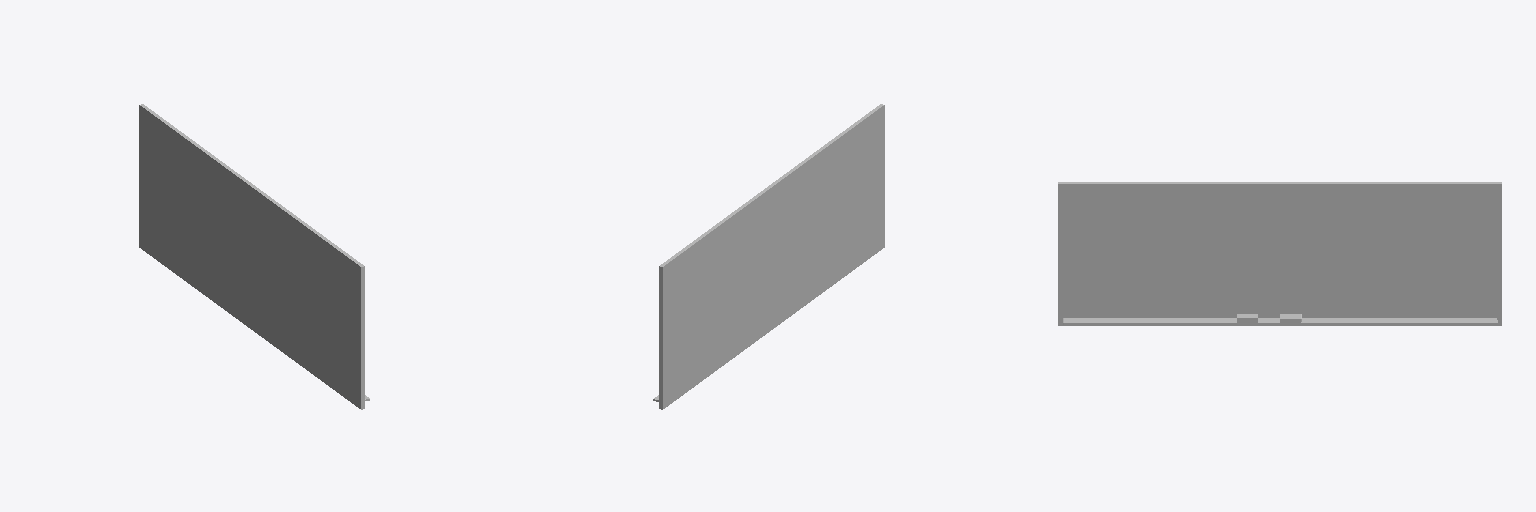
The model's file is Blackboard.obj.
3 renders of one model, left to right at view 1: azimuth 30°, elevation 25°; view 2: azimuth 150°, elevation 25°; view 3: azimuth 270°, elevation 25°, orthographic.
Visible parts, largest first — view 1: Blackboard; view 2: Blackboard; view 3: Blackboard.
Part boxes in pixels (x1,y1,x2,y2): Blackboard: (139, 104, 369, 409); Blackboard: (653, 104, 884, 409); Blackboard: (1058, 182, 1501, 325).
Size of the model in its own units: 1.24 by 14.8 by 41.67.